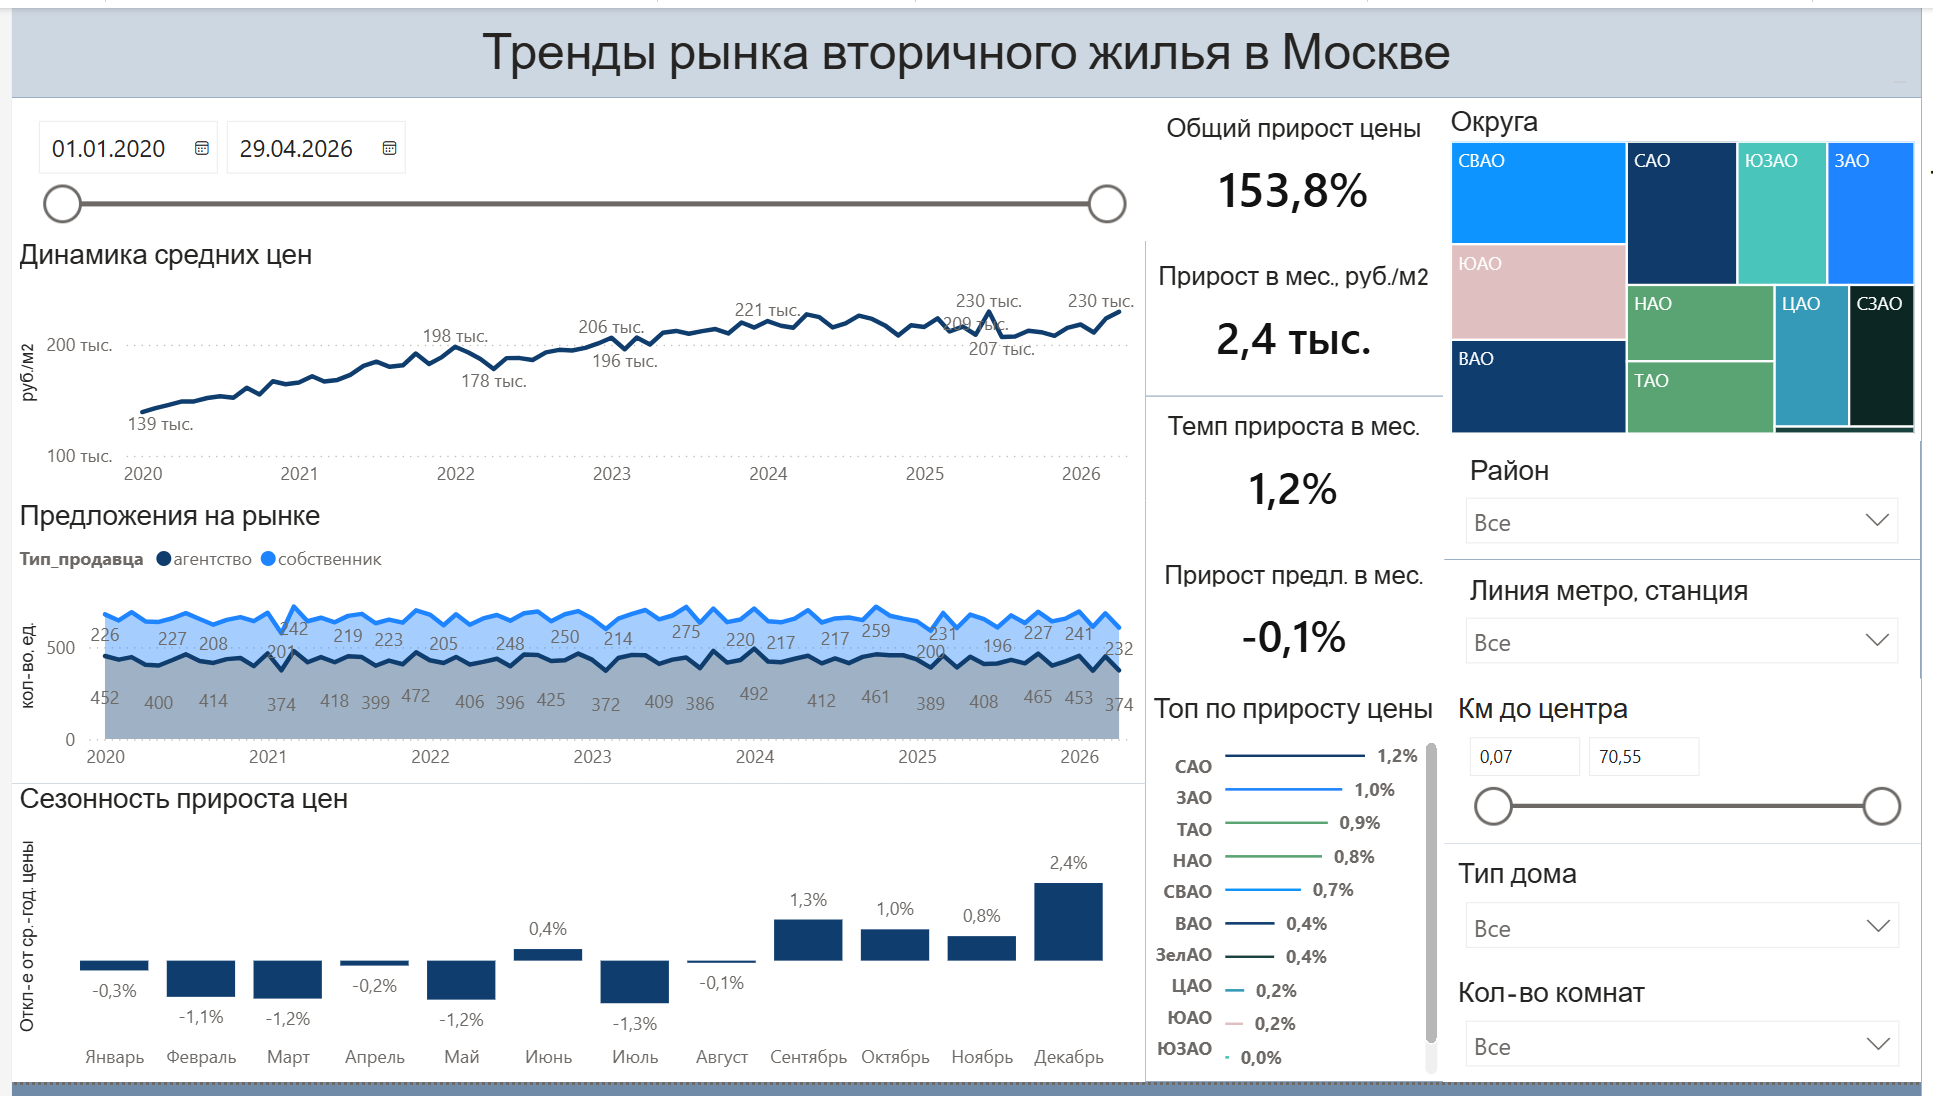

What the dashboard file says about the page in this screenshot:
{"tool":"powerbi","page":{"name":"Тренды рынка","canvas":[1280,720],"ordinal":0},"visuals":[{"type":"lineChart","title":"Динамика средних цен","fields":{"Y":["Avg(secondary_market.price_per_sqm)"],"Category":["secondary_market.date_posted.Изменение.Иерархия дат.Год","secondary_market.date_posted.Изменение.Иерархия дат.Месяц"]},"box":[0,155,760,175],"z":0},{"type":"cardVisual","title":"Прирост в мес., руб./м2","fields":{"Data":["secondary_market.AvgMoMGrowthRubl"]},"box":[760,160,200,100],"z":1000},{"type":"slicer","title":"Тип дома","fields":{"Values":["secondary_market.Тип_постройки"]},"box":[960,560,320.7,80.5],"z":2000},{"type":"cardVisual","title":"Общий прирост цены","fields":{"Data":["secondary_market.TotalGrowth"]},"box":[760.4,60,200.1,100.6],"z":3000},{"type":"treemap","title":"Округа","fields":{"Values":["CountNonNull(secondary_market.id)"],"Group":["secondary_market.Округ"]},"box":[960,60,320.8,230],"z":4000},{"type":"slicer","title":"Кол-во комнат","fields":{"Values":["secondary_market.rooms"]},"box":[960,640,320.7,80.5],"z":5000},{"type":"slicer","fields":{"Values":["secondary_market.district"]},"box":[960,290,320,80],"z":6000},{"type":"slicer","fields":{"Values":["secondary_market.metro_line","secondary_market.metro_station"]},"box":[960,370,320,80],"z":7000},{"type":"slicer","title":"Км до центра","fields":{"Values":["secondary_market.to_center_km"]},"box":[960,450,320,110],"z":8000},{"type":"textbox","title":"Тренды рынка вторичного жилья в Москве","box":[0,0,1280,60],"z":9000},{"type":"slicer","title":"Период публикации объявлений","fields":{"Values":["secondary_market.date_posted"]},"box":[0,60,760,95],"z":10000},{"type":"stackedAreaChart","title":"Предложения на рынке","fields":{"Y":["CountNonNull(secondary_market.id)"],"Series":["secondary_market.seller_type"],"Category":["secondary_market.date_posted.Изменение.Иерархия дат.Год","secondary_market.date_posted.Изменение.Иерархия дат.Месяц"]},"box":[0,330,760,190],"z":11000},{"type":"cardVisual","title":"Прирост предл. в мес.","fields":{"Data":["secondary_market.AvgMoMPublGrowth_30Days"]},"box":[760,360,200,100],"z":12000},{"type":"cardVisual","title":"Темп прироста в мес.","fields":{"Data":["secondary_market.AvgMoMGrowth"]},"box":[760,260,200,100],"z":13000},{"type":"clusteredColumnChart","title":"Сезонность прироста цен","fields":{"Category":["secondary_market.date_posted.Изменение.Иерархия дат.Месяц"],"Y":["secondary_market.Индексы сезонности"]},"box":[0,520,760,200.9],"z":14000},{"type":"clusteredBarChart","title":"Топ по приросту цены","fields":{"Category":["secondary_market.Округ"],"Y":["secondary_market.Среднемес. прирост"],"Series":["secondary_market.Округ"]},"box":[760,460,200,260],"z":15000}]}

Visuals, with their boxes in screenshot pixels (x1, y1, x2, y2), scaled from the page's 1280x720 canvas onto the 1933x1096 screenshot:
"Динамика средних цен" lineChart: pyautogui.locateOnScreen(0, 236, 1148, 502)
"Прирост в мес., руб./м2" cardVisual: pyautogui.locateOnScreen(1148, 244, 1450, 396)
"Тип дома" slicer: pyautogui.locateOnScreen(1450, 852, 1932, 975)
"Общий прирост цены" cardVisual: pyautogui.locateOnScreen(1148, 91, 1451, 244)
"Округа" treemap: pyautogui.locateOnScreen(1450, 91, 1932, 441)
"Кол-во комнат" slicer: pyautogui.locateOnScreen(1450, 974, 1932, 1095)
slicer - secondary_market.district: pyautogui.locateOnScreen(1450, 441, 1932, 563)
slicer - secondary_market.metro_line x secondary_market.metro_station: pyautogui.locateOnScreen(1450, 563, 1932, 685)
"Км до центра" slicer: pyautogui.locateOnScreen(1450, 685, 1932, 852)
"Тренды рынка вторичного жилья в Москве" textbox: pyautogui.locateOnScreen(0, 0, 1932, 91)
"Период публикации объявлений" slicer: pyautogui.locateOnScreen(0, 91, 1148, 236)
"Предложения на рынке" stackedAreaChart: pyautogui.locateOnScreen(0, 502, 1148, 792)
"Прирост предл. в мес." cardVisual: pyautogui.locateOnScreen(1148, 548, 1450, 700)
"Темп прироста в мес." cardVisual: pyautogui.locateOnScreen(1148, 396, 1450, 548)
"Сезонность прироста цен" clusteredColumnChart: pyautogui.locateOnScreen(0, 792, 1148, 1095)
"Топ по приросту цены" clusteredBarChart: pyautogui.locateOnScreen(1148, 700, 1450, 1095)
